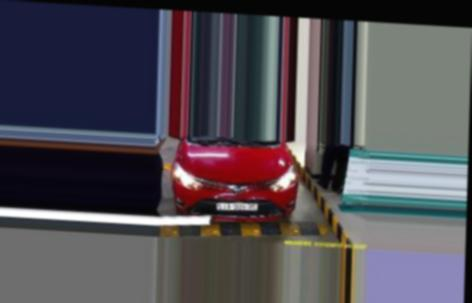License_Plate: (216, 199, 258, 213)
